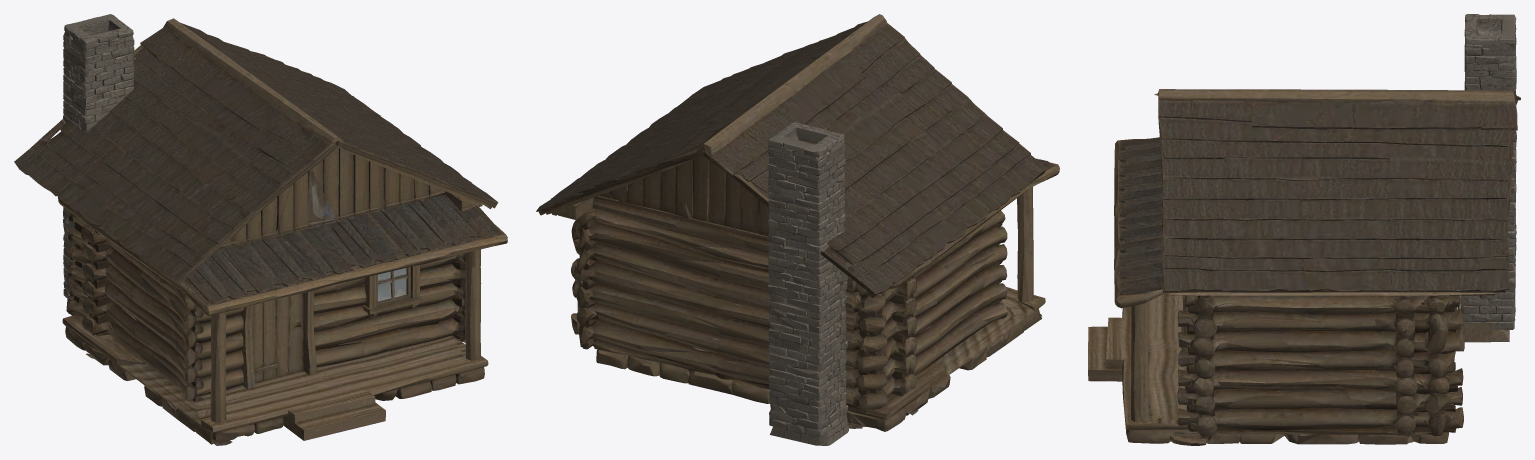
File: home.glb
3 renders of one model, left to right at view 1: azimuth 30°, elevation 25°; view 2: azimuth 150°, elevation 25°; view 3: azimuth 270°, elevation 25°, orthographic. The views are drawn at different scales.
Bounding box in the file's own units: 1.78 × 1.46 × 1.9.
Materials: 1 (1 with a texture image).
